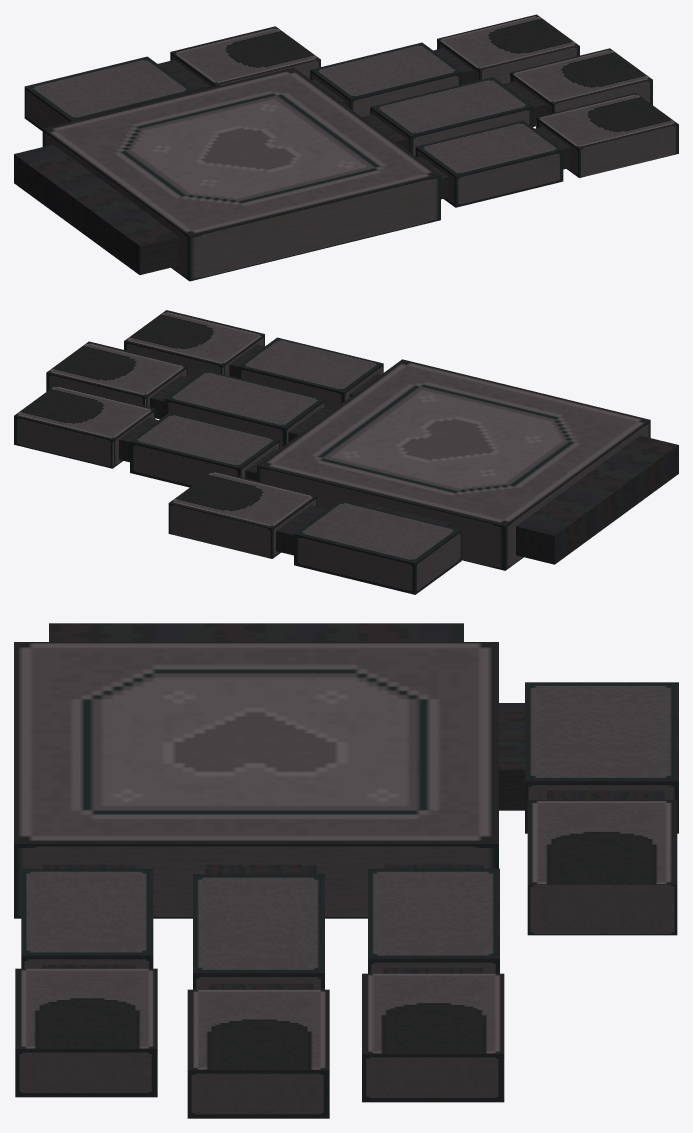
The model's file is Hand.fbx.
The picture shows the model from 3 angles, top to bottom: view 1: azimuth 30°, elevation 25°; view 2: azimuth 150°, elevation 25°; view 3: azimuth 270°, elevation 25°; orthographic projection. The views are drawn at different scales.
Visible parts, largest first — view 1: pCube13, pCube31, pCube42, pCube44, pCube17, pCube41, pCube40, pCube30, pCube43, pCube16, pCube33, pCube36 (+3 smaller); view 2: pCube13, pCube17, pCube31, pCube16, pCube30, pCube40, pCube41, pCube42, pCube44, pCube43, pCube33, pCube36 (+2 smaller); view 3: pCube13, pCube16, pCube44, pCube43, pCube30, pCube17, pCube41, pCube40, pCube42, pCube31, pCube32, pCube33 (+2 smaller).
Boxes of the visible parts, left/top/right/bottom form: pCube13: left=42, top=67, right=440, bottom=281; pCube31: left=14, top=144, right=178, bottom=274; pCube42: left=415, top=120, right=563, bottom=207; pCube44: left=536, top=93, right=678, bottom=177; pCube17: left=24, top=56, right=194, bottom=131; pCube41: left=370, top=77, right=533, bottom=155; pCube40: left=310, top=42, right=462, bottom=116; pCube30: left=437, top=14, right=579, bottom=84; pCube43: left=510, top=48, right=652, bottom=114; pCube16: left=170, top=26, right=320, bottom=87; pCube33: left=158, top=60, right=209, bottom=91; pCube36: left=504, top=81, right=546, bottom=126; pCube13: left=257, top=359, right=650, bottom=570; pCube17: left=294, top=500, right=461, bottom=594; pCube31: left=516, top=435, right=678, bottom=564; pCube16: left=168, top=470, right=316, bottom=558; pCube30: left=14, top=384, right=155, bottom=468; pCube40: left=130, top=412, right=279, bottom=487; pCube41: left=164, top=370, right=325, bottom=448; pCube42: left=237, top=337, right=383, bottom=410; pCube44: left=124, top=310, right=264, bottom=377; pCube43: left=46, top=341, right=187, bottom=407; pCube33: left=276, top=505, right=327, bottom=555; pCube36: left=150, top=375, right=192, bottom=419; pCube13: left=14, top=642, right=498, bottom=918; pCube16: left=527, top=800, right=677, bottom=935; pCube44: left=15, top=968, right=157, bottom=1097; pCube43: left=187, top=989, right=329, bottom=1118; pCube30: left=362, top=973, right=504, bottom=1102; pCube17: left=525, top=682, right=678, bottom=833; pCube41: left=193, top=874, right=324, bottom=989; pCube40: left=368, top=868, right=499, bottom=973; pCube42: left=21, top=868, right=153, bottom=968; pCube31: left=49, top=623, right=463, bottom=641; pCube32: left=499, top=703, right=524, bottom=810; pCube33: left=547, top=790, right=664, bottom=799.
Bounding box in the file's own units: 62.04 × 4.82 × 39.02.
